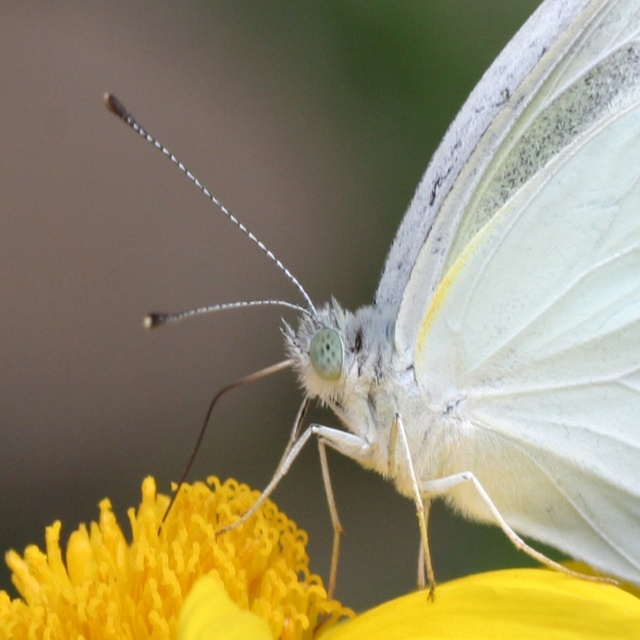Butterfly: (103, 0, 640, 603)
